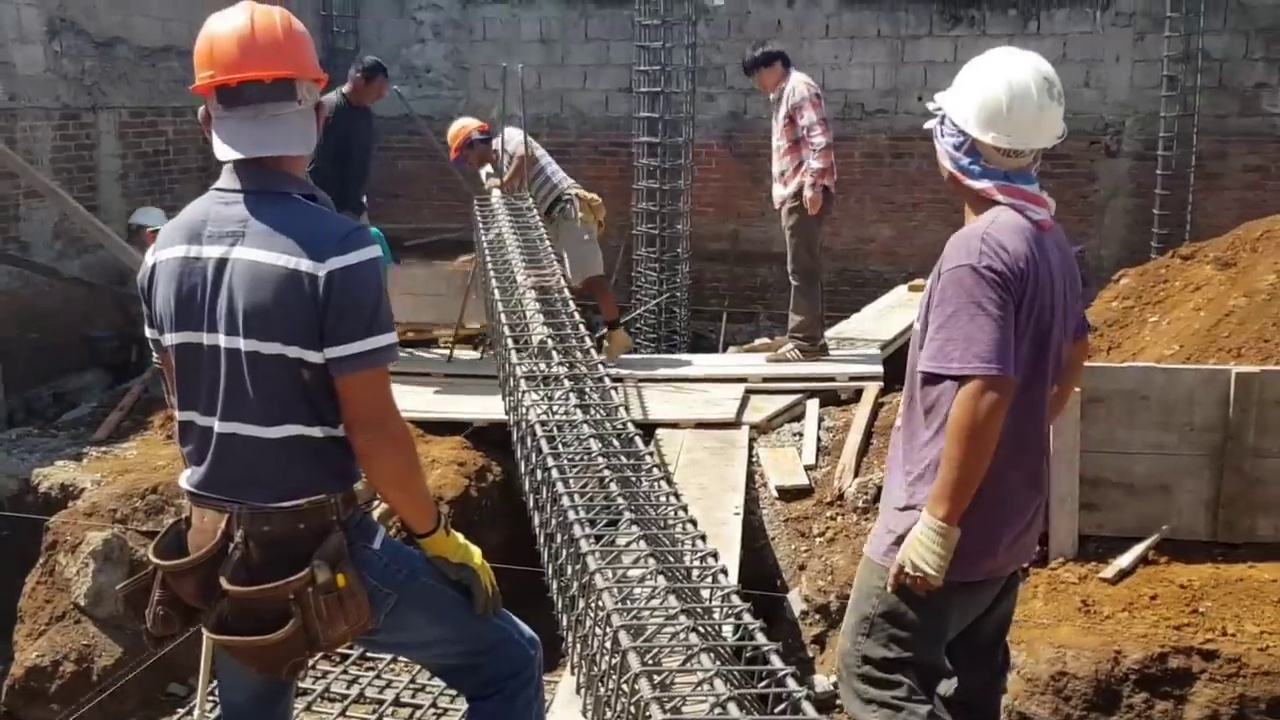helmet: (939, 43, 1073, 155), (181, 4, 333, 99), (447, 112, 486, 170), (120, 201, 175, 237)
helmet-off: (744, 42, 797, 94), (342, 56, 386, 103)
helmet-on: (181, 6, 338, 202), (916, 36, 1074, 226), (450, 98, 507, 188), (121, 202, 163, 253)
person: (112, 0, 522, 720), (832, 44, 1078, 720), (450, 113, 632, 362), (752, 39, 840, 370), (54, 200, 177, 416), (306, 55, 390, 224), (112, 201, 184, 386)
